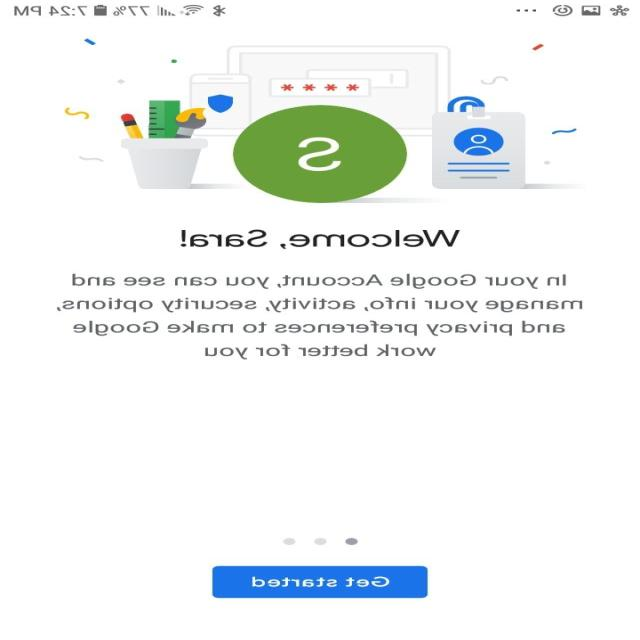Image: (65, 38, 582, 204)
Text: (57, 273, 583, 360), (180, 228, 462, 249)
TextButton: (212, 566, 428, 598)
